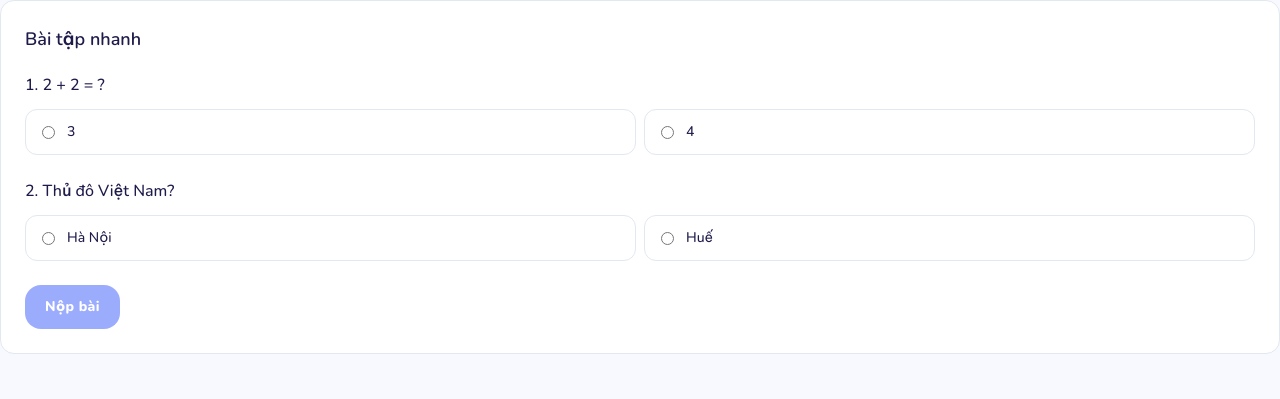
Scenario: Quiz › chấm điểm, hiện giải thích và lưu điểm vào tiến độ
The width and height of the screenshot is (1280, 399).
Click the radio button labelled "4". click: (668, 132)
box: [661,126,674,138]
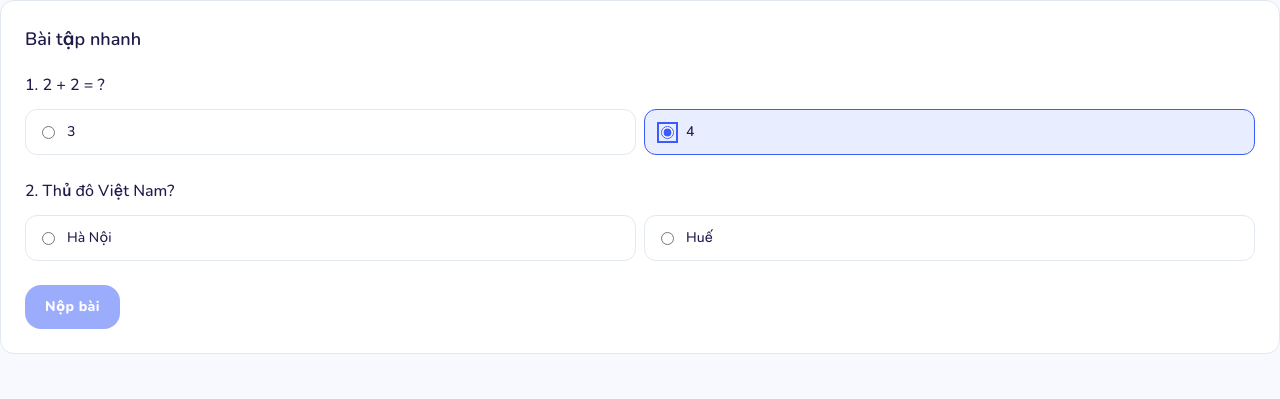
Click the radio button labelled "Huế". click: (668, 238)
box: [661,232,674,244]
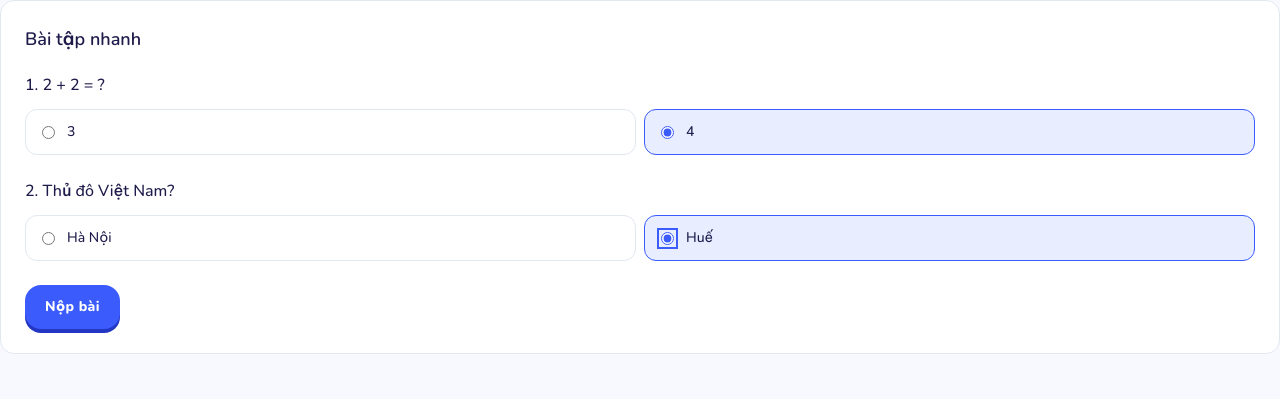
Click the button "Nộp bài". click: (72, 307)
box: [25,285,120,329]
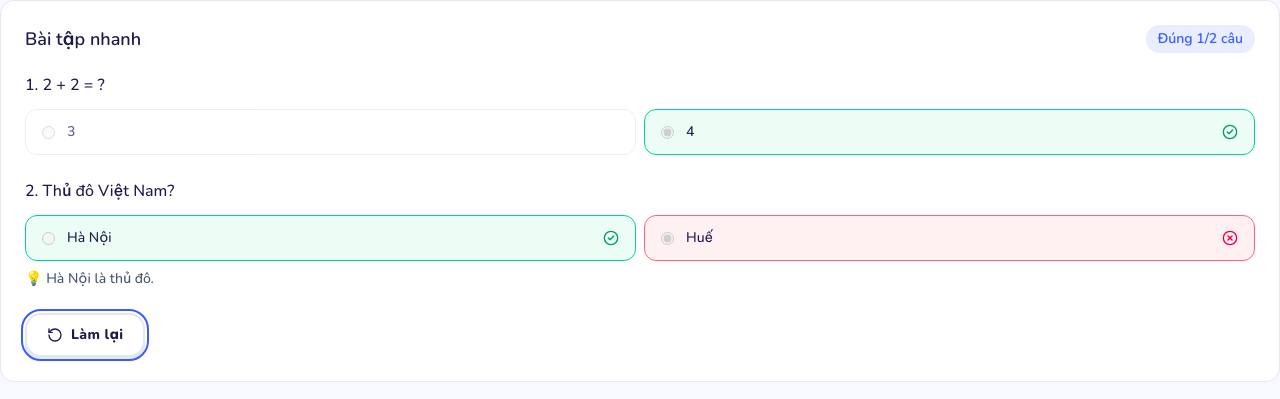
Now the message reads "Đúng 1/2 câu", box [1146,25,1255,53]
Now the text "💡 Hà Nội là thủ đô." is shown, box [25,269,154,288]
